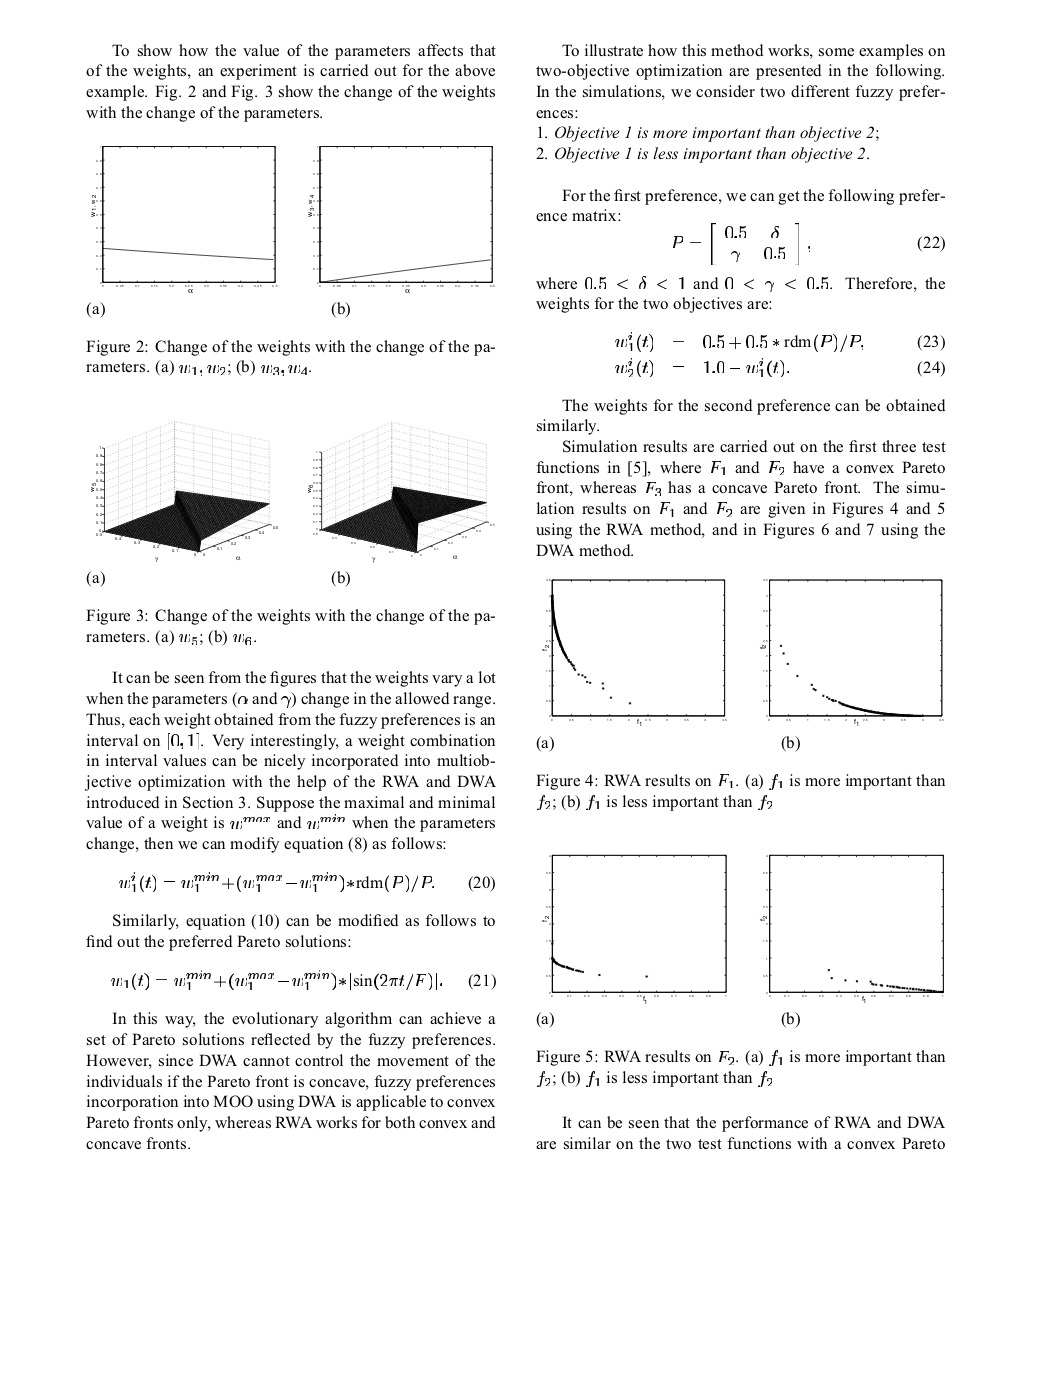figure: (542, 854, 726, 1003), (760, 854, 943, 1002), (91, 146, 278, 291), (308, 146, 494, 291), (542, 580, 726, 726), (760, 580, 943, 726), (91, 421, 278, 561), (308, 422, 494, 562)
formula: (673, 223, 944, 264), (111, 968, 495, 990), (119, 871, 494, 892), (615, 331, 944, 352), (615, 357, 944, 377)
